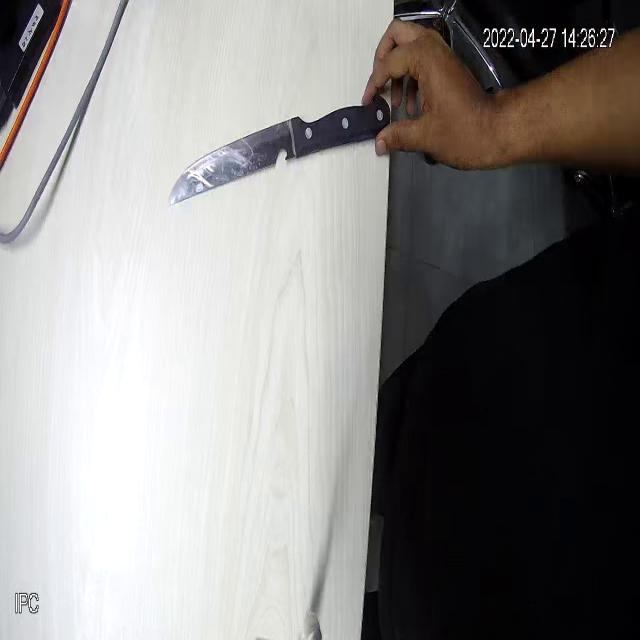knife: (170, 93, 367, 244)
